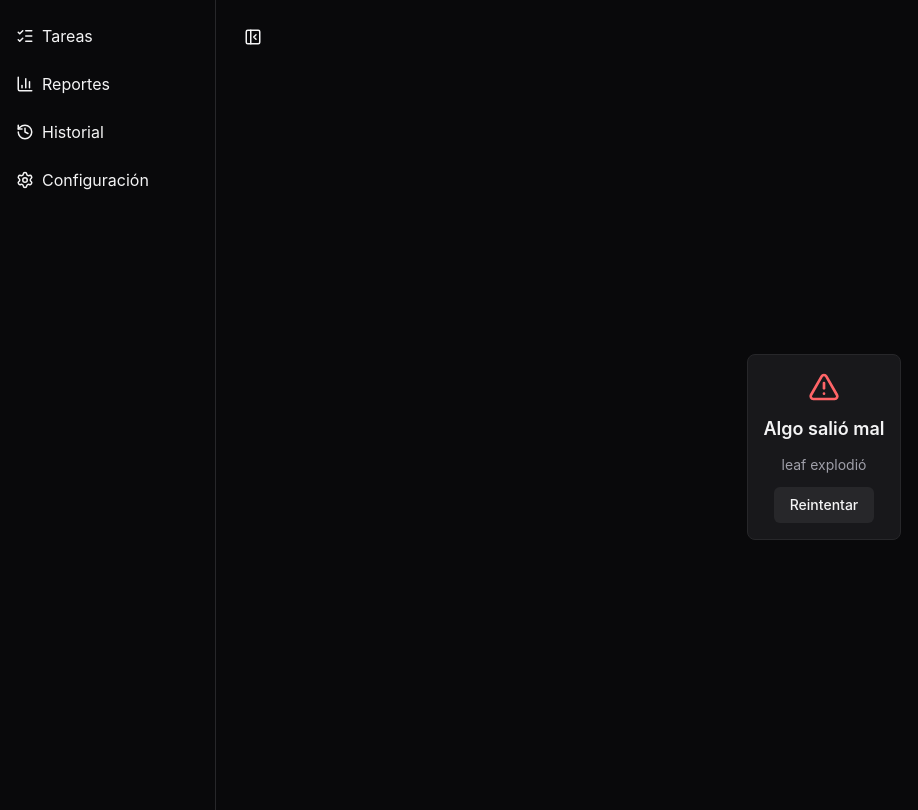
it: RouteErrorBoundary wired as router.defaultErrorComponent (per-route isolation) › catches a leaf-route throw at that route only, leaving the shell/nav intact and navigable
The image size is (918, 810).
Expected: the heading "Algo salió mal" is shown, [764, 415, 884, 443]
Expected: the link "Tareas" is shown, [16, 26, 93, 46]
Click the link "Reportes". click: (63, 84)
box: [16, 74, 110, 94]
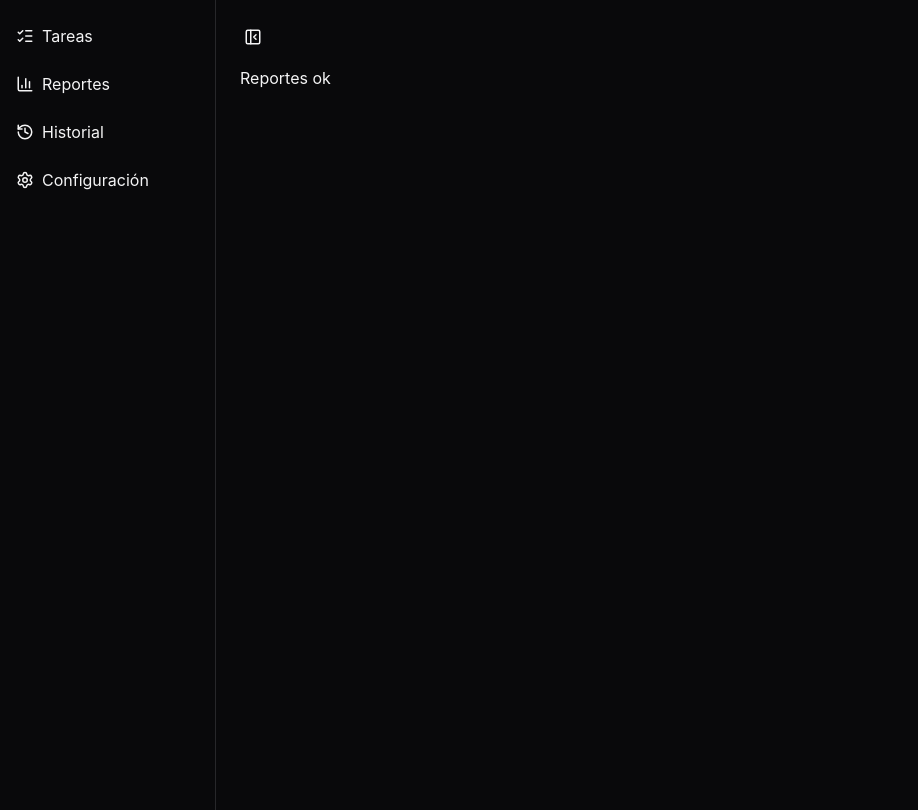
Expected: the link "Tareas" is shown, [16, 26, 93, 46]
Result: the text "Reportes ok" is shown at [240, 68, 331, 88]
Result: the heading "Algo salió mal" is gone
